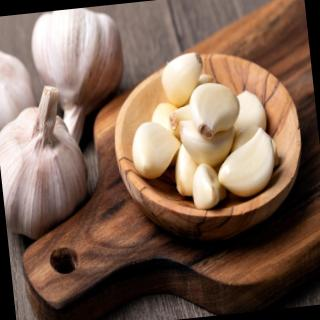Bawang Putih: (186, 77, 245, 140)
